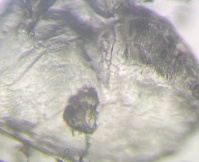microplastic: (1, 1, 199, 162), (61, 84, 102, 137), (83, 1, 130, 20)
